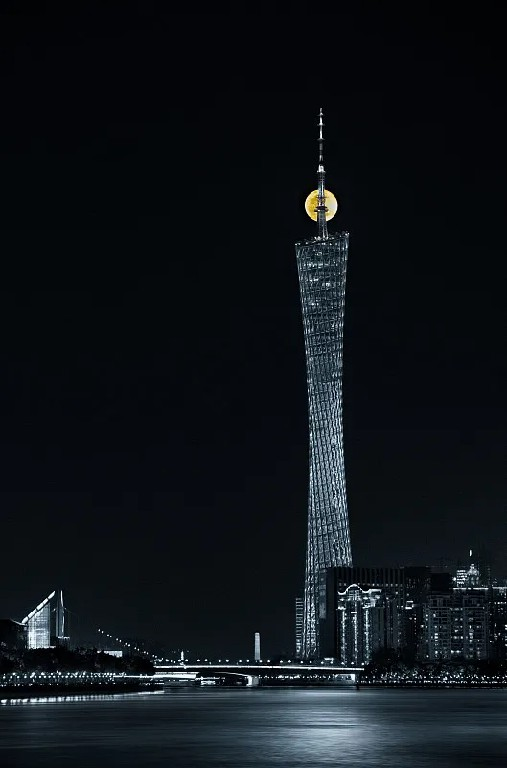Canton: (287, 108, 359, 670)
